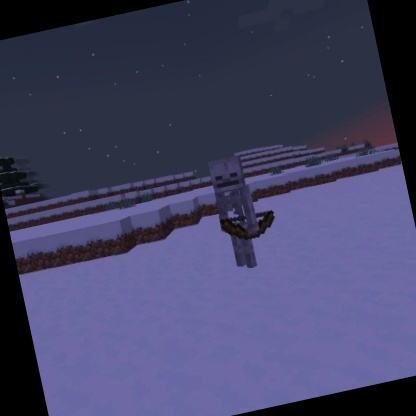skeleton: (202, 145, 288, 278)
